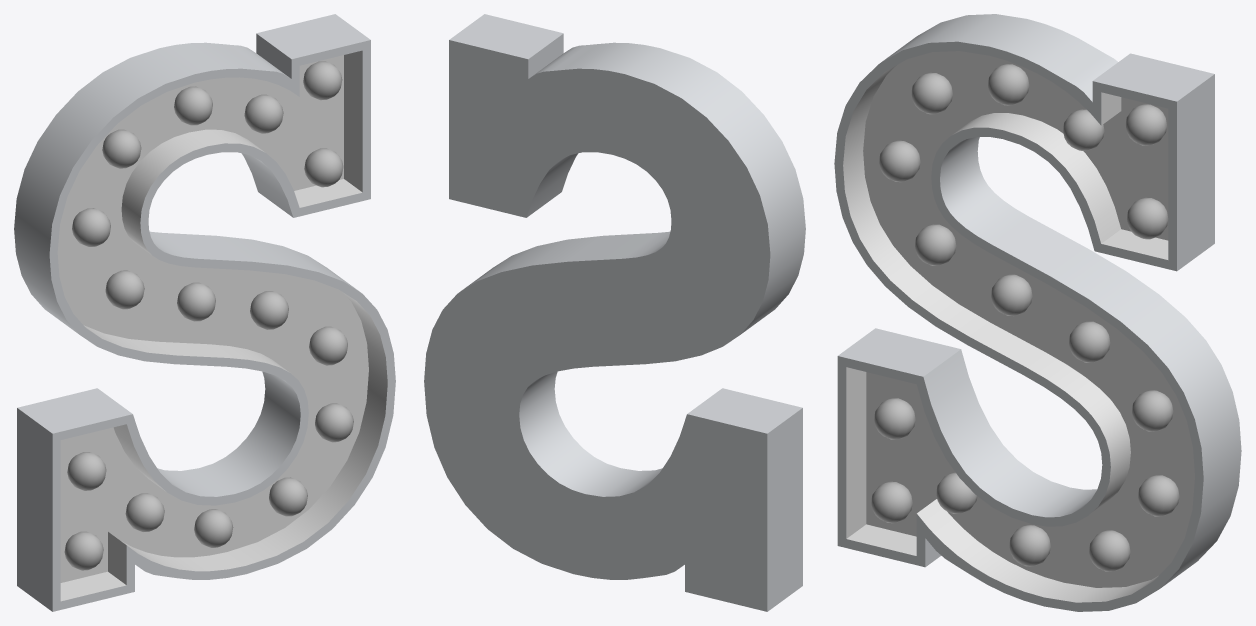
File: LettersBulb01_S.FBX
The picture shows the model from 3 angles, left to right: view 1: azimuth 30°, elevation 25°; view 2: azimuth 150°, elevation 25°; view 3: azimuth 330°, elevation 25°; orthographic projection. The views are drawn at different scales.
Parts seen in each view (by area): view 1: LettersBulb01_S; view 2: LettersBulb01_S; view 3: LettersBulb01_S.
Boxes of the visible parts, x1,y1,x2,y2 form: LettersBulb01_S: [14, 14, 395, 611]; LettersBulb01_S: [424, 14, 805, 611]; LettersBulb01_S: [834, 14, 1241, 611].
Size of what is drawn, in the model's own units: 0.8766 by 1.24 by 0.1563.
